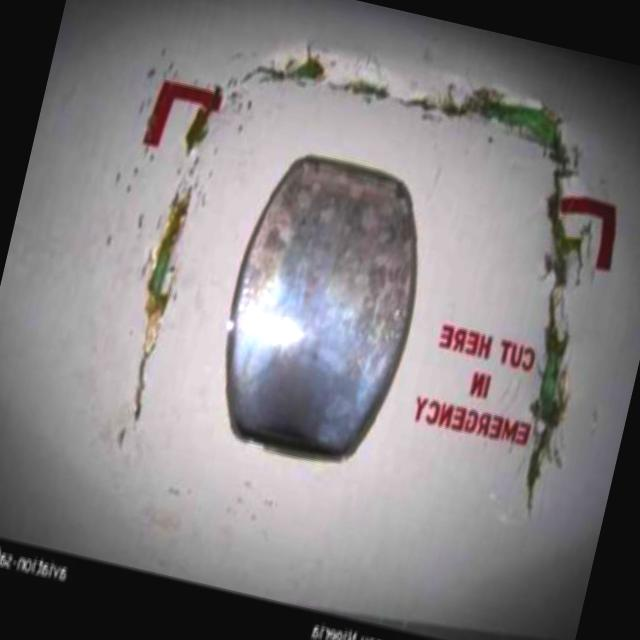crack: (472, 163, 626, 521), (236, 34, 578, 156), (113, 182, 196, 432)
